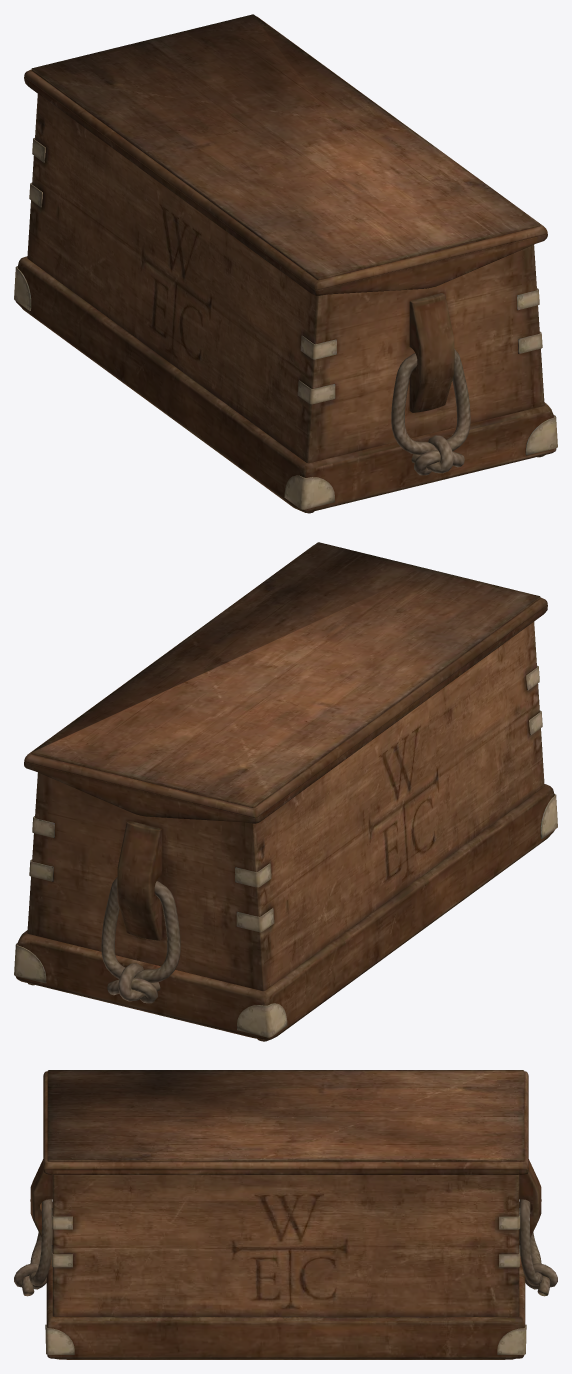
File: universal-ph-wooden-crate.glb
3 views of the same model, one above another, from view 1: azimuth 30°, elevation 25°; view 2: azimuth 150°, elevation 25°; view 3: azimuth 270°, elevation 25° (orthographic). The views are drawn at different scales.
Parts seen in each view (by area): view 1: wooden_crate_02_crate, wooden_crate_02_lid; view 2: wooden_crate_02_crate, wooden_crate_02_lid; view 3: wooden_crate_02_crate, wooden_crate_02_lid.
Part boxes in pixels (x1,y1,x2,y2): wooden_crate_02_crate: (14, 94, 557, 513); wooden_crate_02_lid: (24, 14, 547, 296); wooden_crate_02_crate: (14, 621, 557, 1041); wooden_crate_02_lid: (24, 542, 547, 823); wooden_crate_02_crate: (14, 1159, 557, 1359); wooden_crate_02_lid: (43, 1070, 528, 1174).
Bounding box in the file's own units: 0.5291 × 0.464 × 1.17.
Materials: 1 (1 with a texture image).
